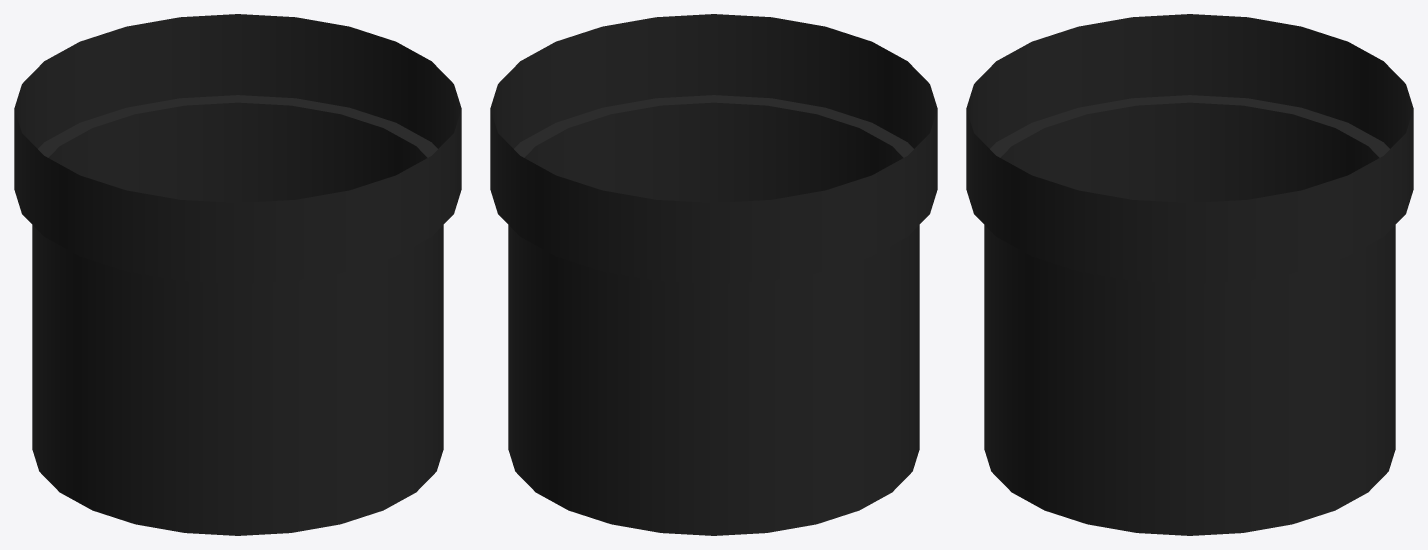
The model's file is Arrow_SRB_0_1.obj.
3 renders of one model, left to right at view 1: azimuth 30°, elevation 25°; view 2: azimuth 150°, elevation 25°; view 3: azimuth 270°, elevation 25°, orthographic.
Parts seen in each view (by area): view 1: Arrow_SRB_0_1; view 2: Arrow_SRB_0_1; view 3: Arrow_SRB_0_1.
Boxes of the visible parts, x1,y1,x2,y2 form: Arrow_SRB_0_1: [14, 14, 461, 535]; Arrow_SRB_0_1: [490, 14, 937, 535]; Arrow_SRB_0_1: [966, 14, 1413, 535].
Bounding box in the file's own units: 0.625 × 0.575 × 0.625.
